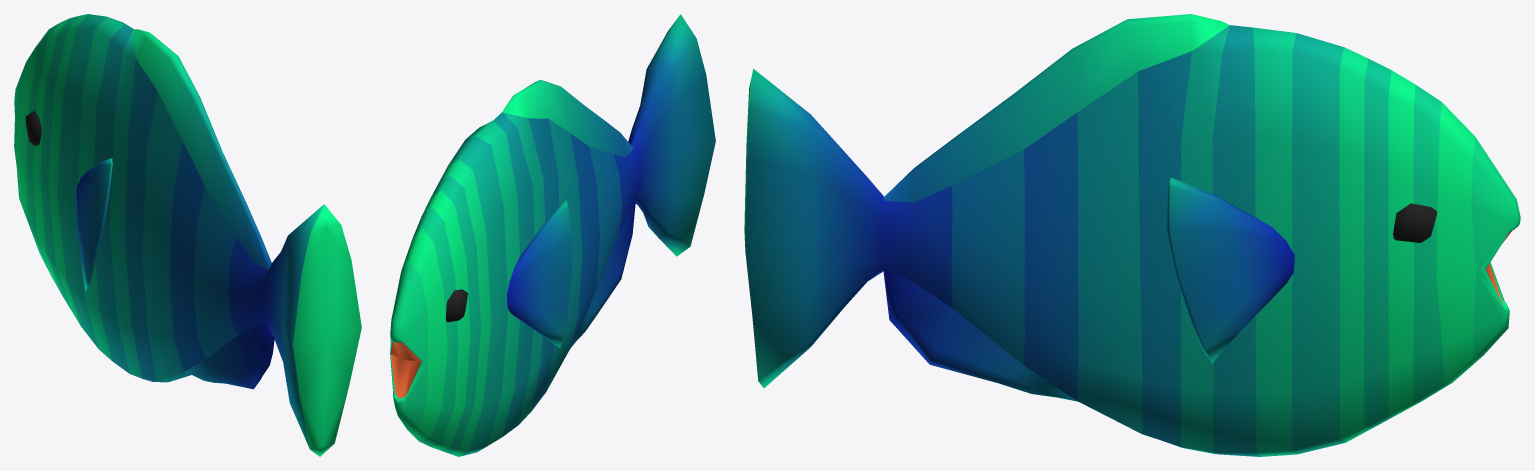
Rendered from Green_Fish_01.fbx.
3 views of the same model, side by side, from view 1: azimuth 30°, elevation 25°; view 2: azimuth 150°, elevation 25°; view 3: azimuth 270°, elevation 25° (orthographic). The views are drawn at different scales.
Parts seen in each view (by area): view 1: Green_Fish_01; view 2: Green_Fish_01; view 3: Green_Fish_01.
Part boxes in pixels (bbox=[...]): Green_Fish_01: bbox=[14, 14, 361, 456]; Green_Fish_01: bbox=[390, 14, 715, 456]; Green_Fish_01: bbox=[744, 14, 1520, 456].
Size of the model in its own units: 32.07 by 96.57 by 153.
